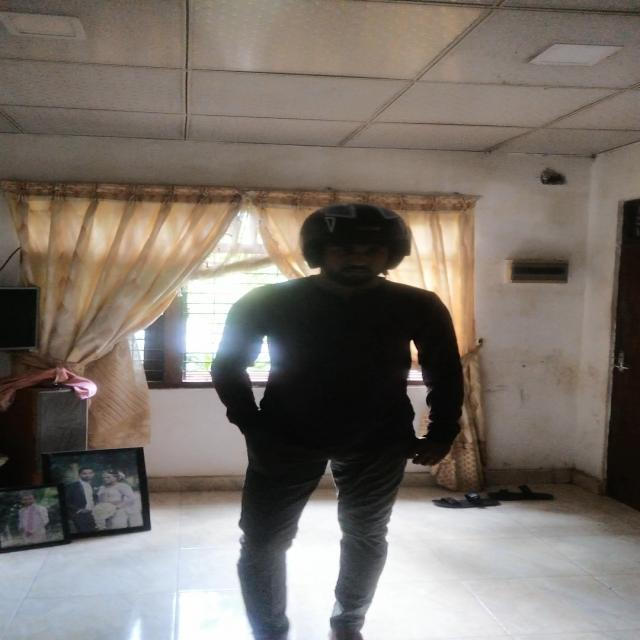Helmet_Wearer: (264, 203, 422, 304)
Person: (226, 197, 459, 640)
